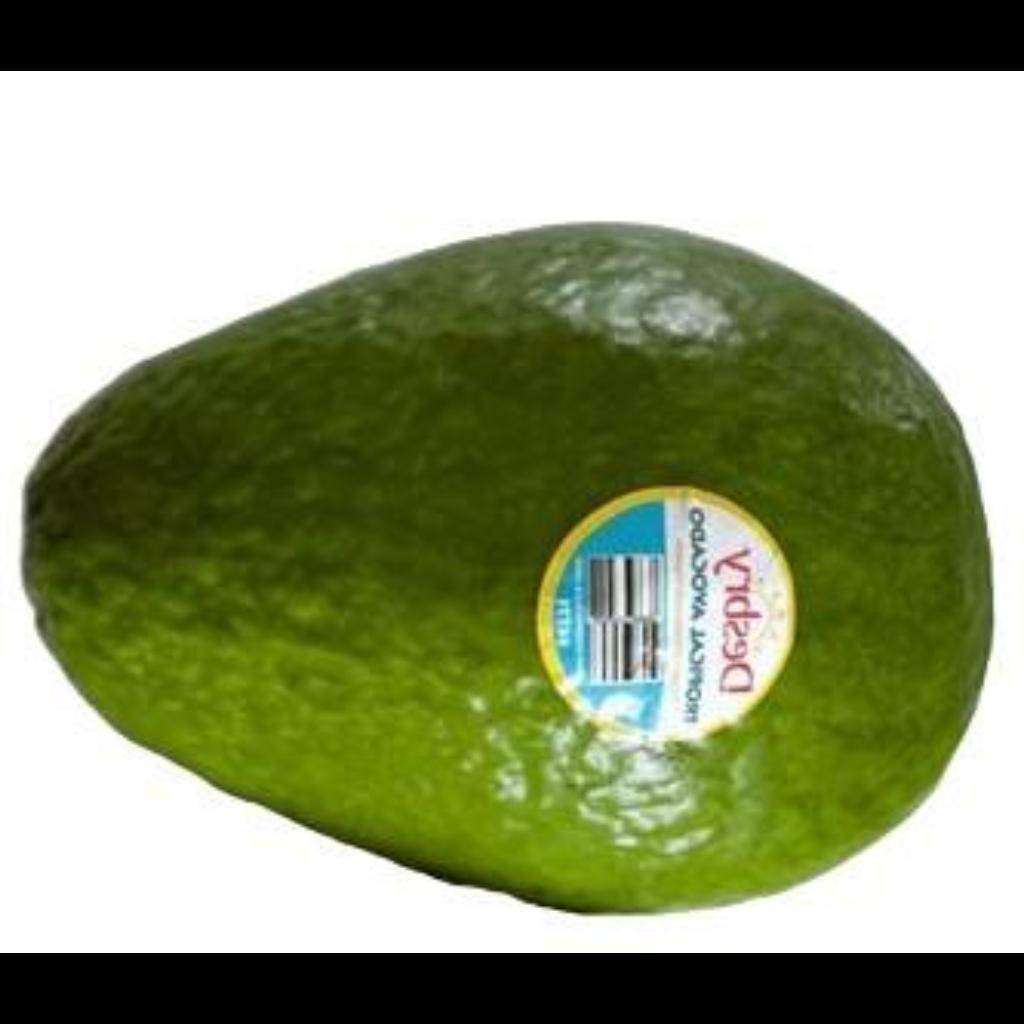Healthy: (14, 214, 1000, 918)
